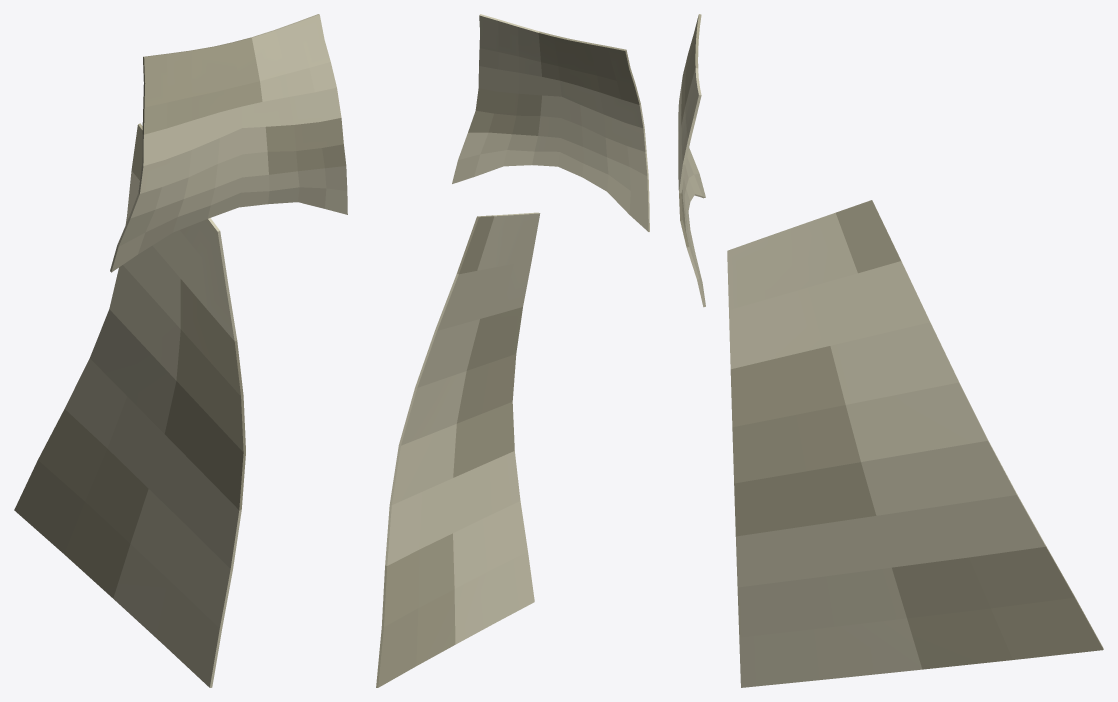
File: MediumShip_2_Sails3.fbx
3 views of the same model, side by side, from view 1: azimuth 30°, elevation 25°; view 2: azimuth 150°, elevation 25°; view 3: azimuth 270°, elevation 25° (orthographic). The views are drawn at different scales.
Visible parts, largest first — view 1: MediumShip_2_Sails3; view 2: MediumShip_2_Sails3; view 3: MediumShip_2_Sails3.
Part boxes in pixels (bbox=[...]): MediumShip_2_Sails3: bbox=[14, 14, 347, 687]; MediumShip_2_Sails3: bbox=[376, 14, 649, 687]; MediumShip_2_Sails3: bbox=[678, 14, 1103, 687].
Size of the model in its own units: 650 by 1756 by 1071.
